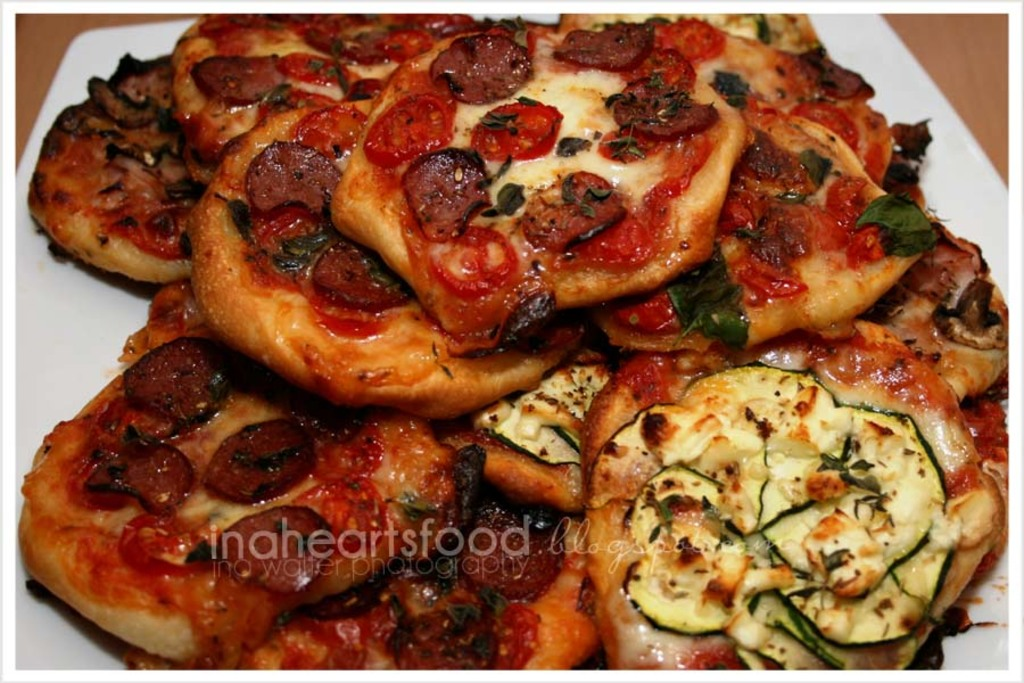pizza: (17, 5, 1010, 672), (327, 18, 750, 344), (567, 332, 959, 660)
